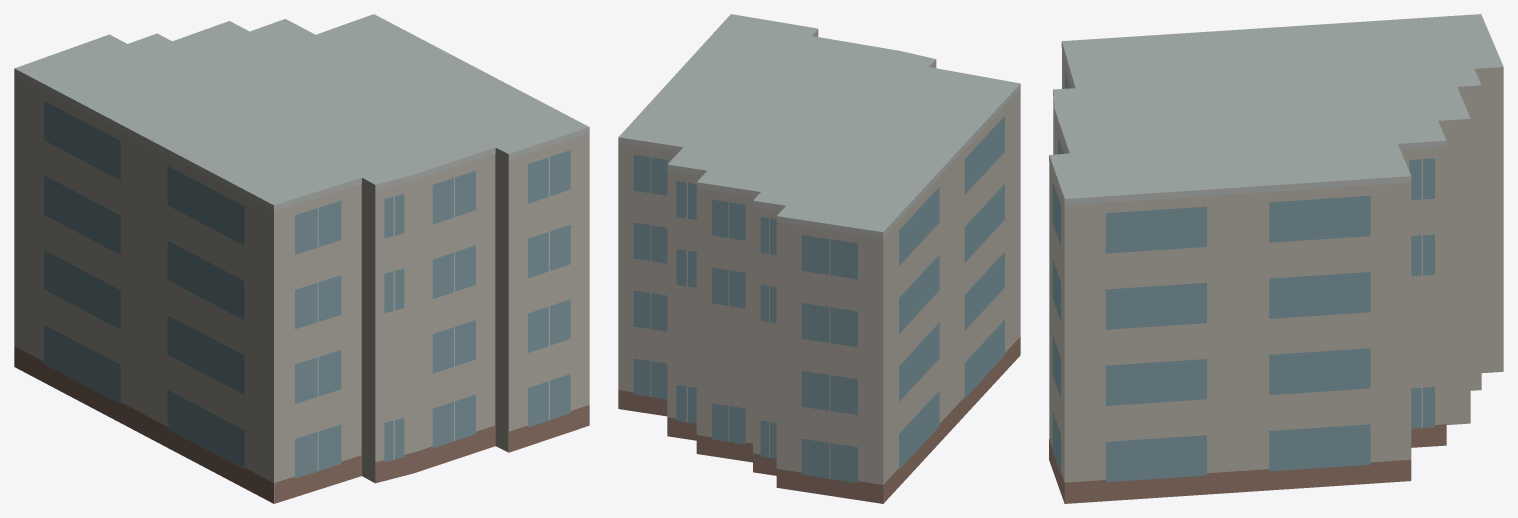
Rendered from survey-upis-32651719.glb.
3 renders of one model, left to right at view 1: azimuth 30°, elevation 25°; view 2: azimuth 150°, elevation 25°; view 3: azimuth 270°, elevation 25°, orthographic. The views are drawn at different scales.
Parts seen in each view (by area): view 1: survey-upis-32651719.tmp; view 2: survey-upis-32651719.tmp; view 3: survey-upis-32651719.tmp.
Boxes of the visible parts, <box> form: survey-upis-32651719.tmp: <box>14,14,589,503</box>; survey-upis-32651719.tmp: <box>618,14,1020,503</box>; survey-upis-32651719.tmp: <box>1049,14,1503,503</box>.
Bounding box in the file's own units: 15.37 × 11.8 × 15.96.
